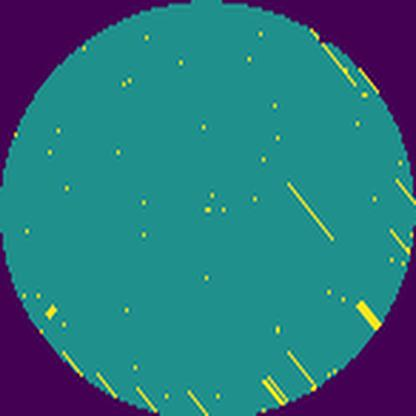Scratch: (284, 180, 338, 248), (307, 27, 359, 90), (283, 349, 319, 389), (257, 372, 288, 410), (350, 298, 382, 330), (133, 382, 160, 412), (387, 228, 411, 258), (185, 388, 210, 416), (395, 176, 416, 205)
